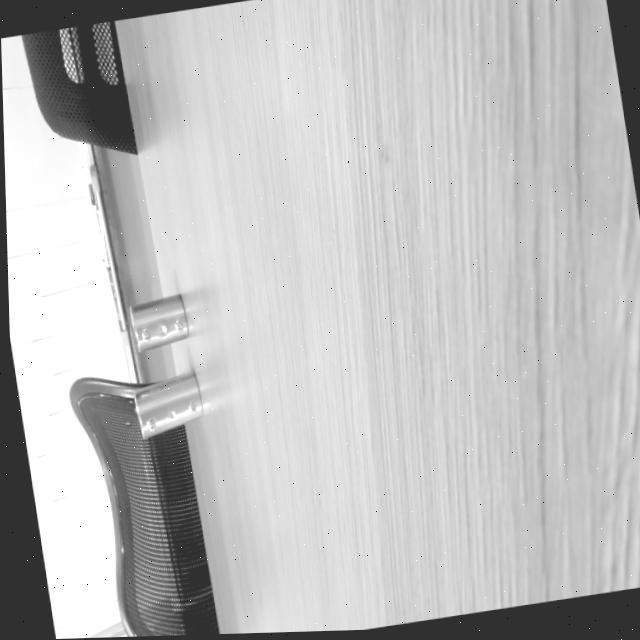Co_Lon: (126, 367, 210, 438)
Co_Nho: (126, 292, 193, 351)
